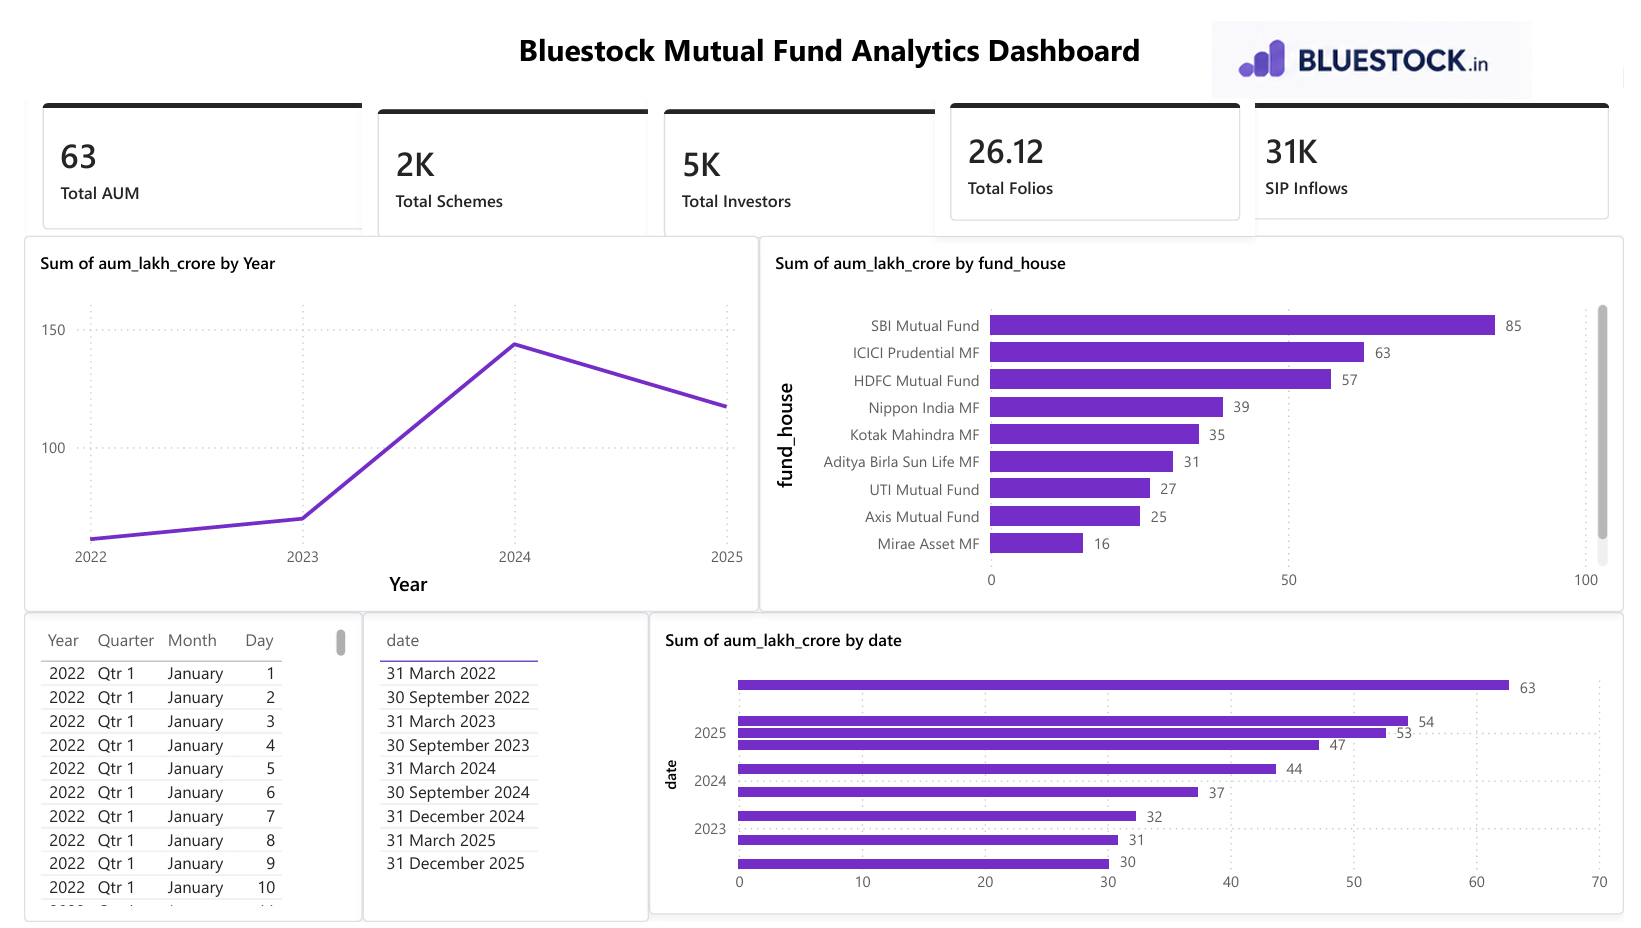

What the dashboard file says about the page in this screenshot:
{"tool":"powerbi","page":{"name":"Page 1","canvas":[1280,720],"ordinal":0},"visuals":[{"type":"tableEx","fields":{"Values":["MonthTable.Month.Variation.Date Hierarchy.Year","MonthTable.Month.Variation.Date Hierarchy.Quarter","MonthTable.Month.Variation.Date Hierarchy.Month","MonthTable.Month.Variation.Date Hierarchy.Day"]},"box":[36.8,446.7,220.6,267],"z":0},{"type":"cardVisual","fields":{"Data":["01_fund_master.Total AUM"]},"box":[162.1,84.4,147.1,125.3],"z":1000},{"type":"cardVisual","fields":{"Data":["01_fund_master.Total Schemes"]},"box":[362.3,84.4,163.4,126.7],"z":2000},{"type":"cardVisual","fields":{"Data":["08_investor_transactions.Total Investors"]},"box":[588.4,83.1,163.4,126.7],"z":3000},{"type":"cardVisual","fields":{"Data":["01_fund_master.SIP Inflows"]},"box":[1020.1,83.1,174.3,115.8],"z":4000},{"type":"tableEx","fields":{"Values":["03_aum_by_fund_house.date"]},"box":[27.2,198.9,230.2,247.9],"z":5000},{"type":"clusteredBarChart","fields":{"Category":["03_aum_by_fund_house.date"],"Y":["Sum(03_aum_by_fund_house.aum_lakh_crore)"]},"box":[257.4,219.3,416.8,280.6],"z":6000},{"type":"clusteredBarChart","fields":{"Category":["03_aum_by_fund_house.fund_house"],"Y":["Sum(03_aum_by_fund_house.aum_lakh_crore)"]},"box":[758.6,237,499.9,276.5],"z":7000},{"type":"cardVisual","fields":{"Data":["Max(06_industry_folio_count.total_folios_crore)"]},"box":[813.1,81.7,170.2,117.1],"z":8000},{"type":"lineChart","fields":{"Y":["Sum(03_aum_by_fund_house.aum_lakh_crore)"],"Category":["03_aum_by_fund_house.Year"]},"box":[407.2,513.5,551.6,207],"z":9000},{"type":"textbox","box":[431.8,483.5,12.3,40.9],"z":10000},{"type":"textbox","box":[407.2,23.2,532.5,61.3],"z":11000}]}

Visuals, with their boxes in screenshot pixels (x1, y1, x2, y2), scaled from the page's 1280x720 canvas onto the 1641x928 screenshot:
tableEx - MonthTable.Month.Variation.Date Hierarchy.Year x MonthTable.Month.Variation.Date Hierarchy.Quarter: 47/576/330/920
cardVisual - 01_fund_master.Total AUM: 208/109/396/270
cardVisual - 01_fund_master.Total Schemes: 464/109/674/272
cardVisual - 08_investor_transactions.Total Investors: 754/107/964/270
cardVisual - 01_fund_master.SIP Inflows: 1308/107/1531/256
tableEx - 03_aum_by_fund_house.date: 35/256/330/576
clusteredBarChart - 03_aum_by_fund_house.date x Sum(03_aum_by_fund_house.aum_lakh_crore): 330/283/864/644
clusteredBarChart - 03_aum_by_fund_house.fund_house x Sum(03_aum_by_fund_house.aum_lakh_crore): 973/305/1613/662
cardVisual - Max(06_industry_folio_count.total_folios_crore): 1042/105/1261/256
lineChart - Sum(03_aum_by_fund_house.aum_lakh_crore) x 03_aum_by_fund_house.Year: 522/662/1229/927
textbox: 554/623/569/676
textbox: 522/30/1205/109
